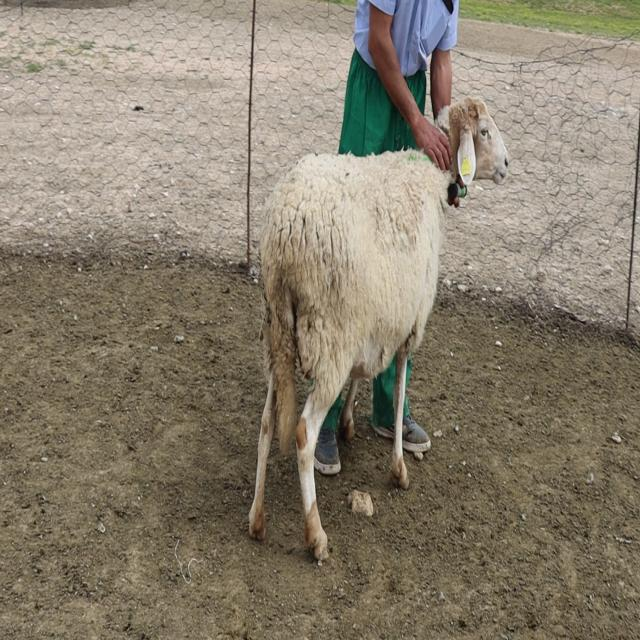Score_5: (249, 97, 509, 559)
